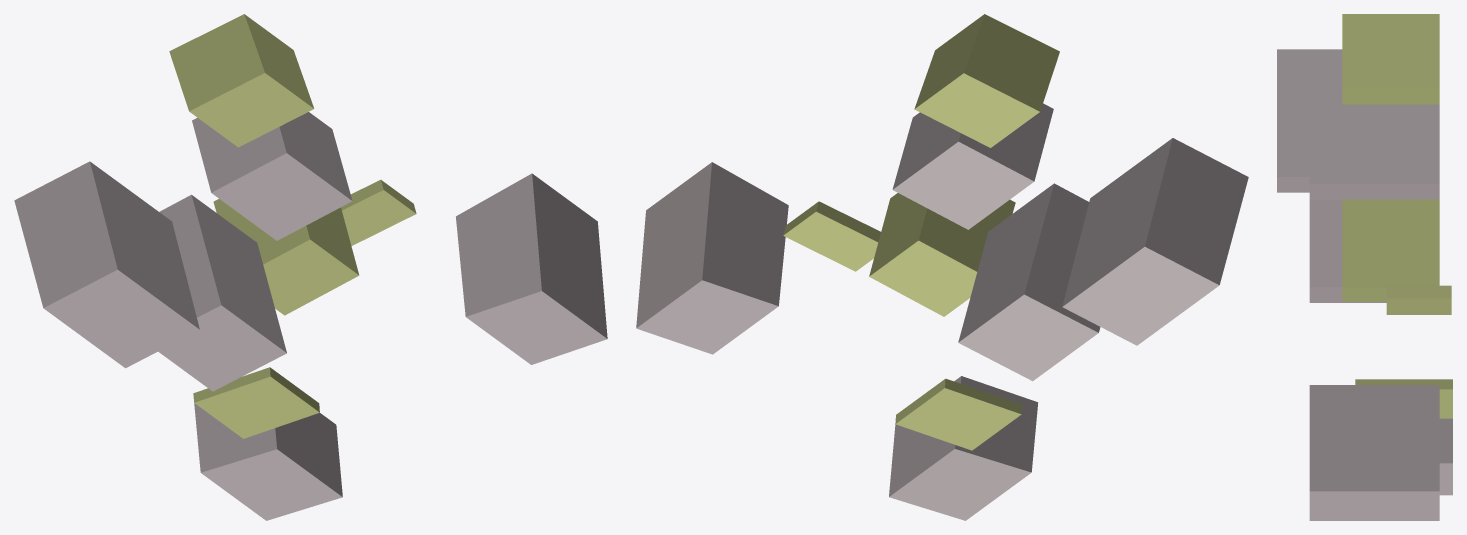
3 renders of one model, left to right at view 1: azimuth 30°, elevation 25°; view 2: azimuth 150°, elevation 25°; view 3: azimuth 270°, elevation 25°, orthographic.
Parts seen in each view (by area): view 1: 0_1_2_3_3_3_0_3_0; view 2: 0_1_2_3_3_3_0_3_0; view 3: 0_1_2_3_3_3_0_3_0.
Boxes of the visible parts, x1,y1,x2,y2 form: 0_1_2_3_3_3_0_3_0: [14, 14, 607, 520]; 0_1_2_3_3_3_0_3_0: [636, 14, 1248, 520]; 0_1_2_3_3_3_0_3_0: [1277, 14, 1452, 520].
Bounding box in the file's own units: 55.58 × 45.76 × 16.21.
